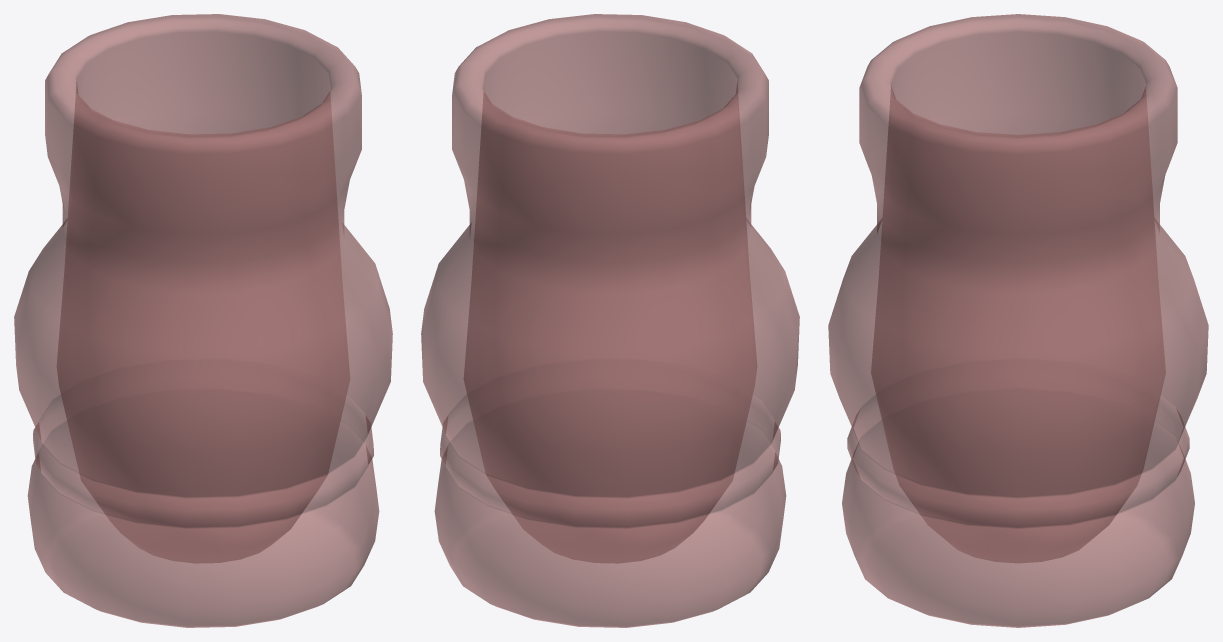
Rendered from SM_Mortar_01_Unity.fbx.
3 views of the same model, side by side, from view 1: azimuth 30°, elevation 25°; view 2: azimuth 150°, elevation 25°; view 3: azimuth 270°, elevation 25° (orthographic).
Visible parts, largest first — view 1: SM_Mortar_01_low; view 2: SM_Mortar_01_low; view 3: SM_Mortar_01_low.
Boxes of the visible parts, <box> form: SM_Mortar_01_low: <box>14,14,392,627</box>; SM_Mortar_01_low: <box>421,14,799,627</box>; SM_Mortar_01_low: <box>828,14,1208,627</box>.
Size of the model in its own units: 18.38 by 25.96 by 18.38.
